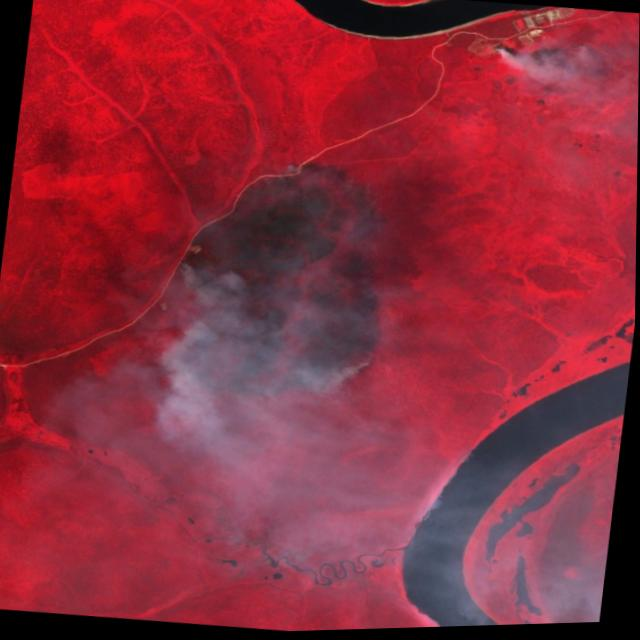fire: (156, 250, 394, 416), (485, 30, 609, 81)
